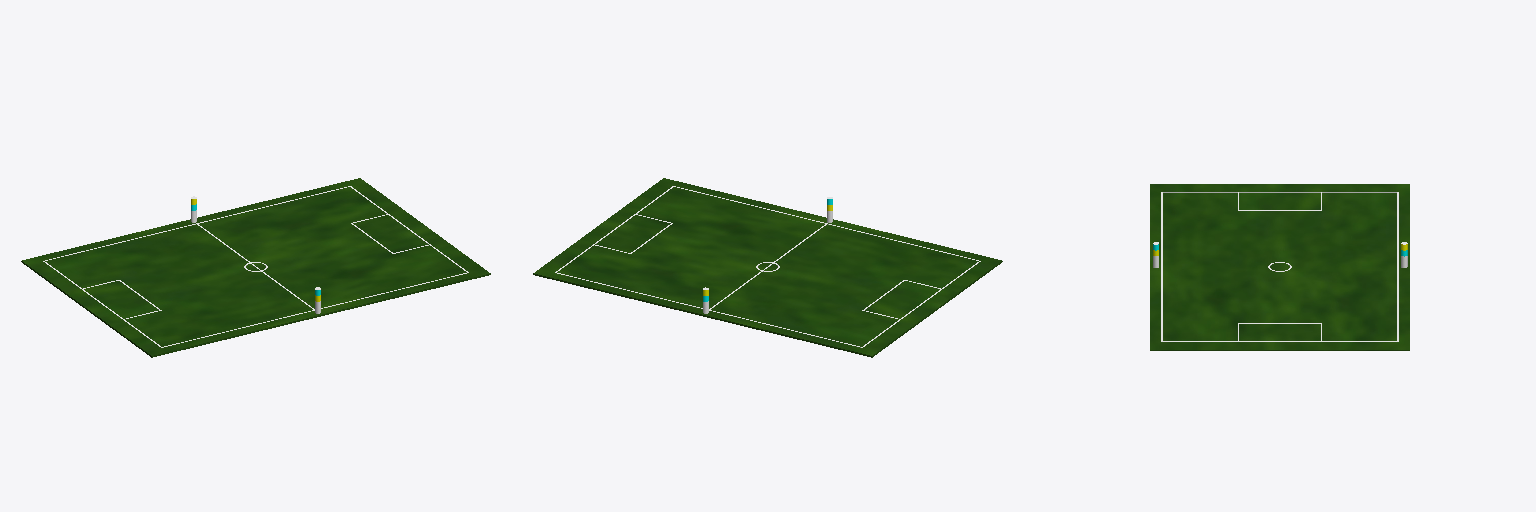
The picture shows the model from 3 angles: view 1: azimuth 30°, elevation 25°; view 2: azimuth 150°, elevation 25°; view 3: azimuth 270°, elevation 25°; orthographic projection.
Parts seen in each view (by area): view 1: pCube1 group7; view 2: pCube1 group7; view 3: pCube1 group7.
Part boxes in pixels (x1,y1,x2,y2): pCube1 group7: (21, 178, 490, 357); pCube1 group7: (533, 178, 1002, 357); pCube1 group7: (1150, 184, 1409, 350).
Bounding box in the file's own units: 6 × 0.429 × 4.
5 materials, 1 textured.